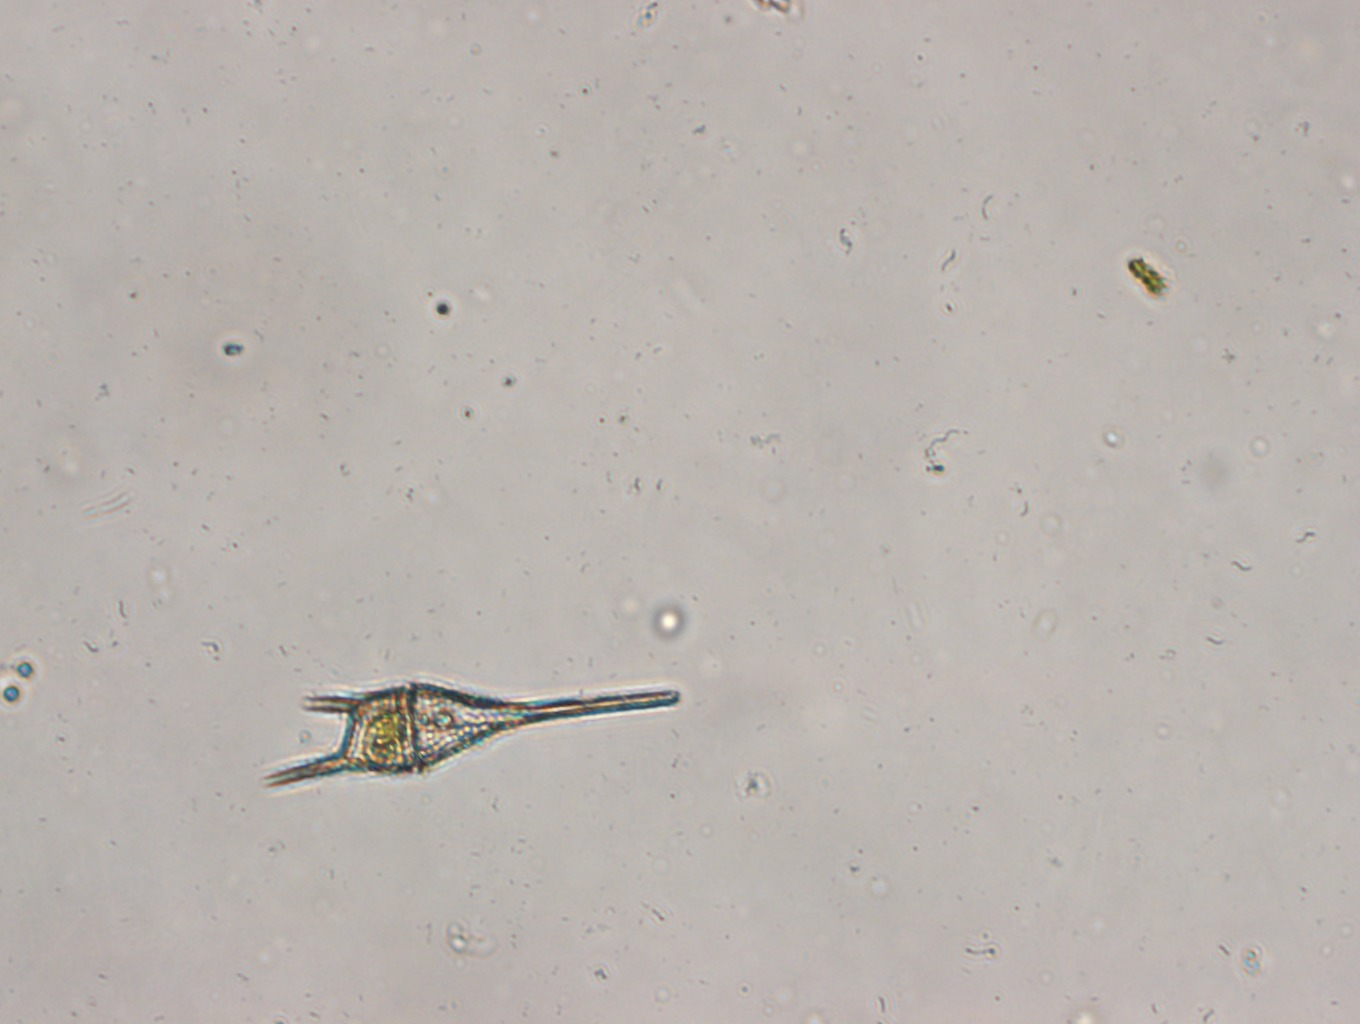ceratium furca: (259, 670, 682, 802)
